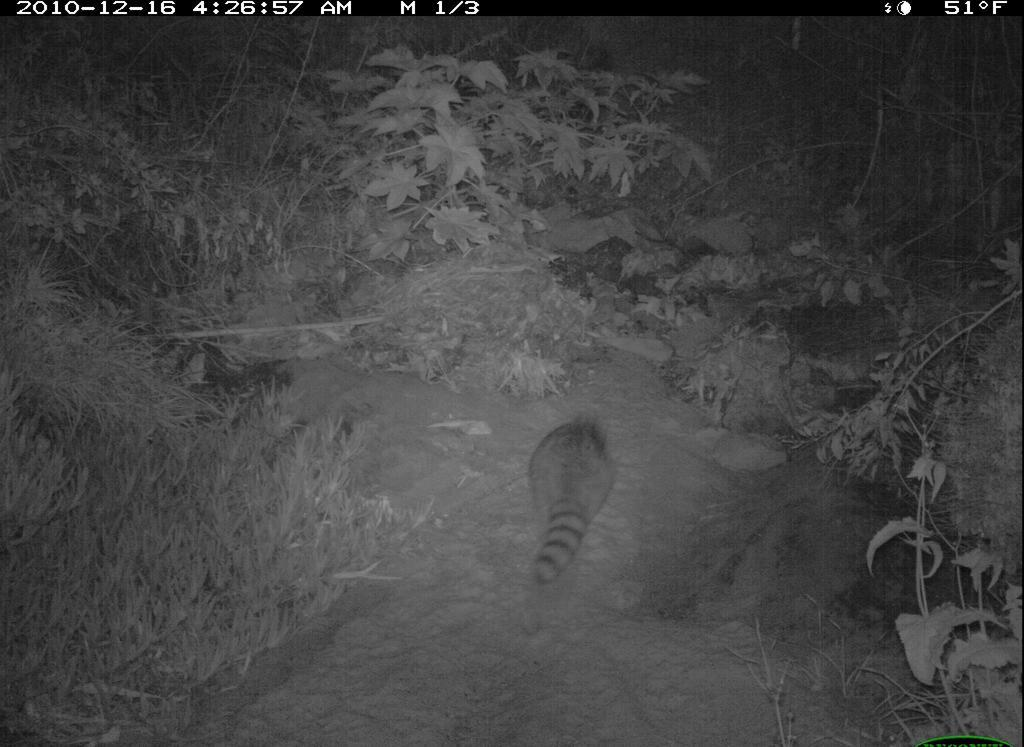raccoon: (504, 400, 632, 594)
